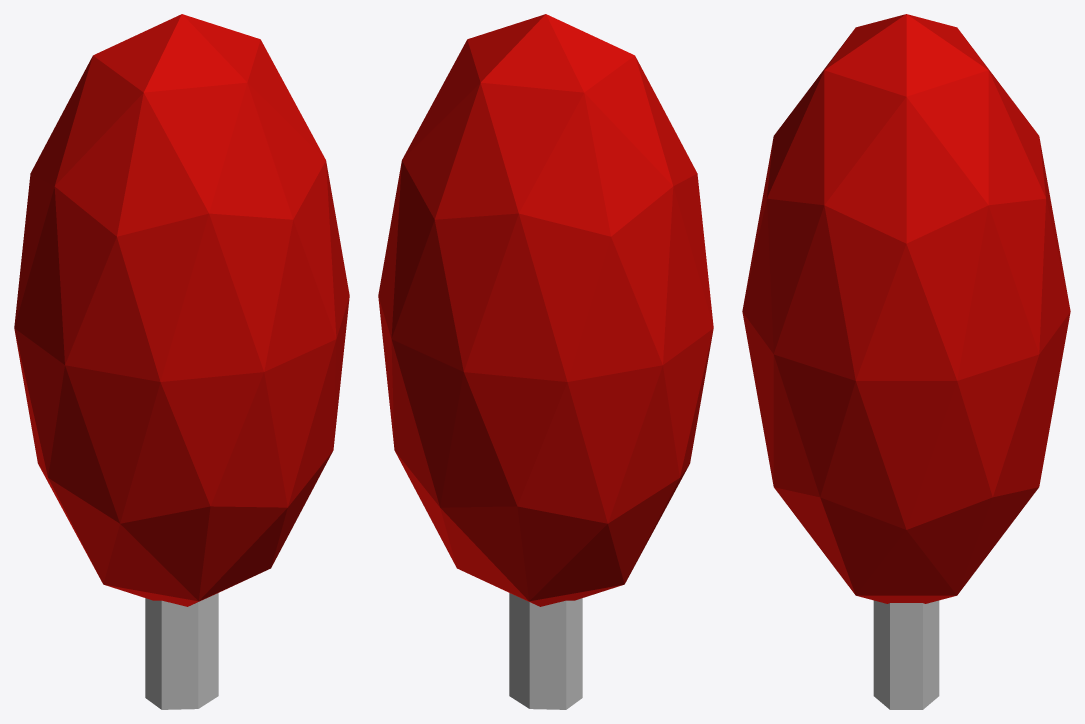
Rendered from shroom5.fbx.
3 renders of one model, left to right at view 1: azimuth 30°, elevation 25°; view 2: azimuth 150°, elevation 25°; view 3: azimuth 270°, elevation 25°, orthographic.
Visible parts, largest first — view 1: Cylinder; view 2: Cylinder; view 3: Cylinder.
Boxes of the visible parts, bbox=[...] form: Cylinder: bbox=[14, 14, 349, 709]; Cylinder: bbox=[378, 14, 713, 709]; Cylinder: bbox=[742, 14, 1070, 709].
Bounding box in the file's own units: 300 × 688 × 300.
